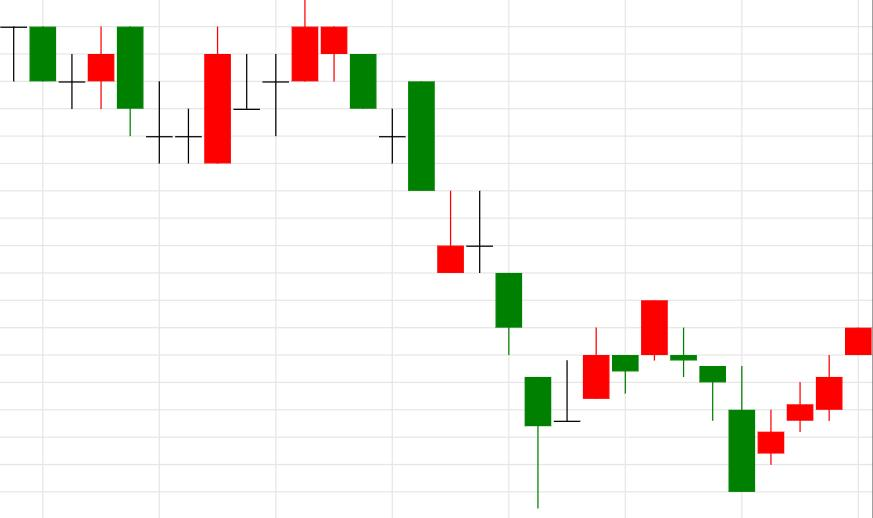hammer_rise: (350, 54, 552, 508)
